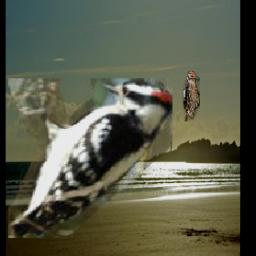Woodpecker: (9, 79, 173, 239), (184, 71, 201, 122)
